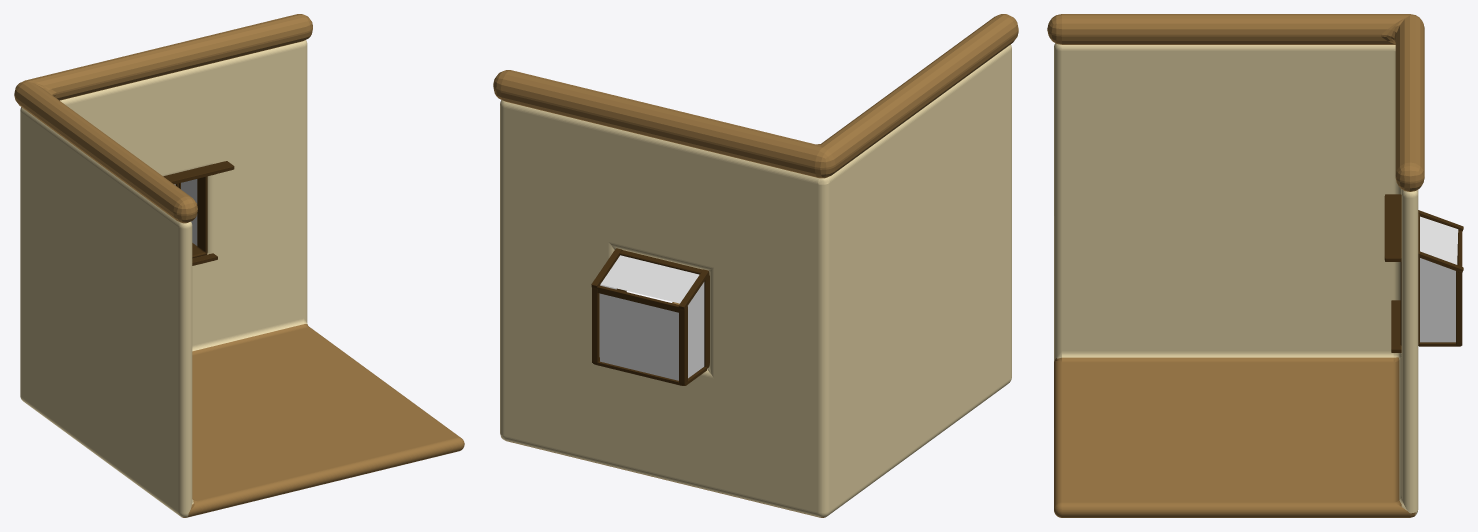
The model's file is Wall08.fbx.
3 renders of one model, left to right at view 1: azimuth 30°, elevation 25°; view 2: azimuth 150°, elevation 25°; view 3: azimuth 270°, elevation 25°, orthographic. The views are drawn at different scales.
Visible parts, largest first — view 1: Wall-floor, Wall-top, WindowFrame04, WindowFrame01.002; view 2: Wall-floor, Wall-top, WindowGlow, WindowGlow.002, WindowGlow.001, WindowFrame03.001, WindowFrame04, WindowFrame03.003, WindowFrame03.002; view 3: Wall-floor, Wall-top, WindowGlow.001, WindowGlow.002, WindowFrame01.002, WindowFrame03.003, WindowFrame01, WindowFrame03.001.
Part boxes in pixels (x1=…): Wall-floor: x1=20, y1=40, x2=464, y2=517; Wall-top: x1=14, y1=14, x2=312, y2=223; WindowFrame04: x1=192, y1=176, x2=207, y2=258; WindowFrame01.002: x1=163, y1=161, x2=234, y2=184; Wall-floor: x1=500, y1=44, x2=1011, y2=517; Wall-top: x1=493, y1=14, x2=1018, y2=178; WindowGlow: x1=600, y1=293, x2=678, y2=380; WindowGlow.002: x1=600, y1=255, x2=699, y2=303; WindowGlow.001: x1=599, y1=282, x2=704, y2=378; WindowFrame03.001: x1=592, y1=287, x2=687, y2=385; WindowFrame04: x1=617, y1=250, x2=709, y2=368; WindowFrame03.003: x1=591, y1=248, x2=709, y2=309; WindowFrame03.002: x1=591, y1=285, x2=679, y2=312; Wall-floor: x1=1054, y1=43, x2=1418, y2=517; Wall-top: x1=1047, y1=14, x2=1424, y2=191; WindowGlow.001: x1=1420, y1=258, x2=1455, y2=342; WindowGlow.002: x1=1420, y1=216, x2=1458, y2=264; WindowFrame01.002: x1=1384, y1=194, x2=1401, y2=261; WindowFrame03.003: x1=1418, y1=210, x2=1463, y2=272; WindowFrame01: x1=1391, y1=300, x2=1401, y2=352; WindowFrame03.001: x1=1456, y1=244, x2=1462, y2=345.
Size of the model in its own units: 207 by 215 by 229.
